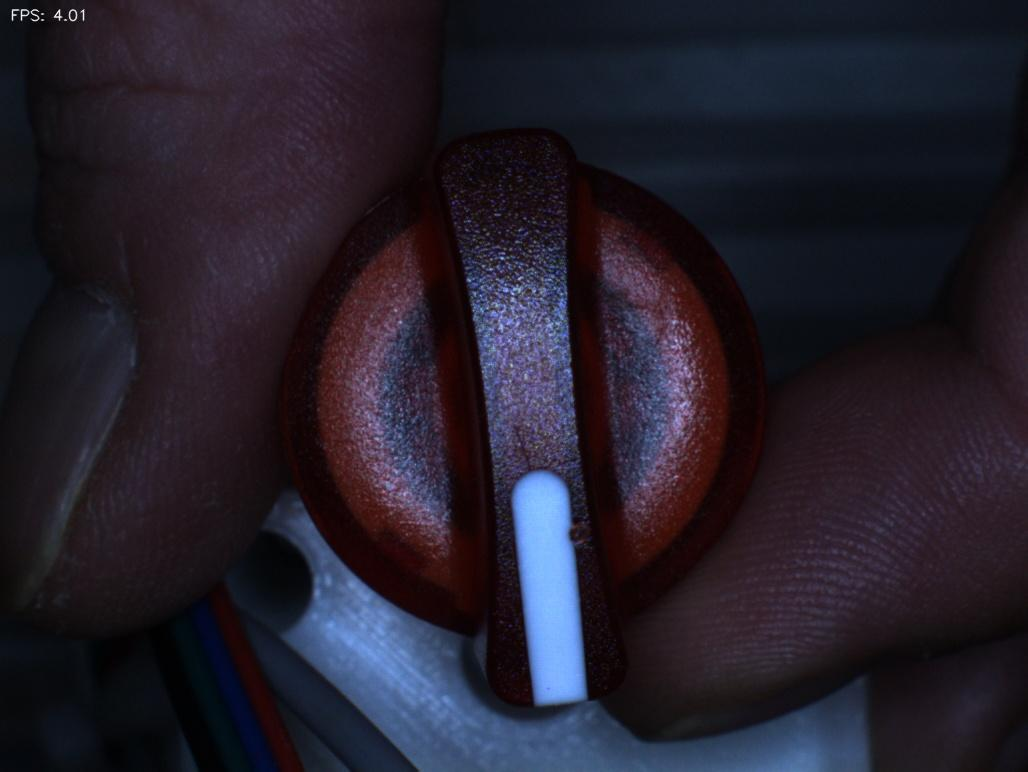Choc: (546, 498, 625, 570)
